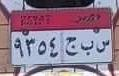3: (24, 37, 36, 58)
4: (49, 35, 60, 60)
5: (37, 39, 47, 57)
9: (12, 36, 23, 59)
baa: (79, 40, 94, 58)
jeem: (64, 34, 78, 58)
seen: (96, 38, 110, 55)
